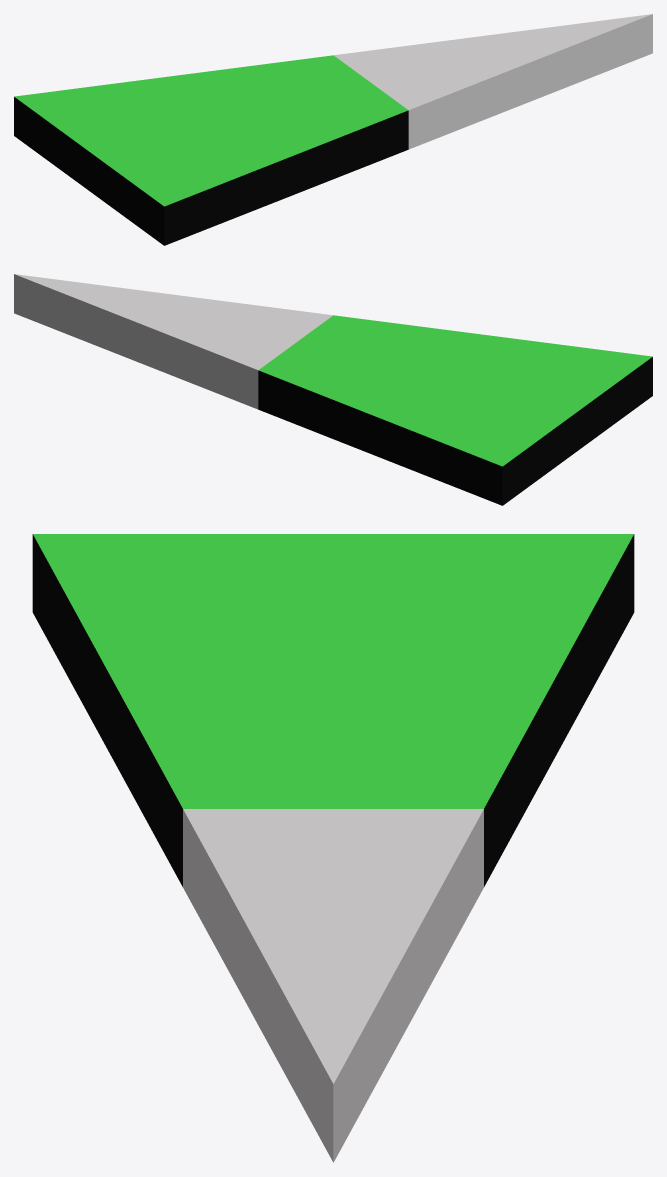
File: tri_prism.dae
The picture shows the model from 3 angles, top to bottom: view 1: azimuth 30°, elevation 25°; view 2: azimuth 150°, elevation 25°; view 3: azimuth 270°, elevation 25°; orthographic projection. The views are drawn at different scales.
Visible parts, largest first — view 1: Cylinder; view 2: Cylinder; view 3: Cylinder.
Boxes of the visible parts, box(x1,y1,x2,y2) form: Cylinder: box(14, 14, 652, 245); Cylinder: box(14, 274, 652, 505); Cylinder: box(32, 534, 634, 1162).
Bounding box in the file's own units: 3 × 1.39 × 0.2.
